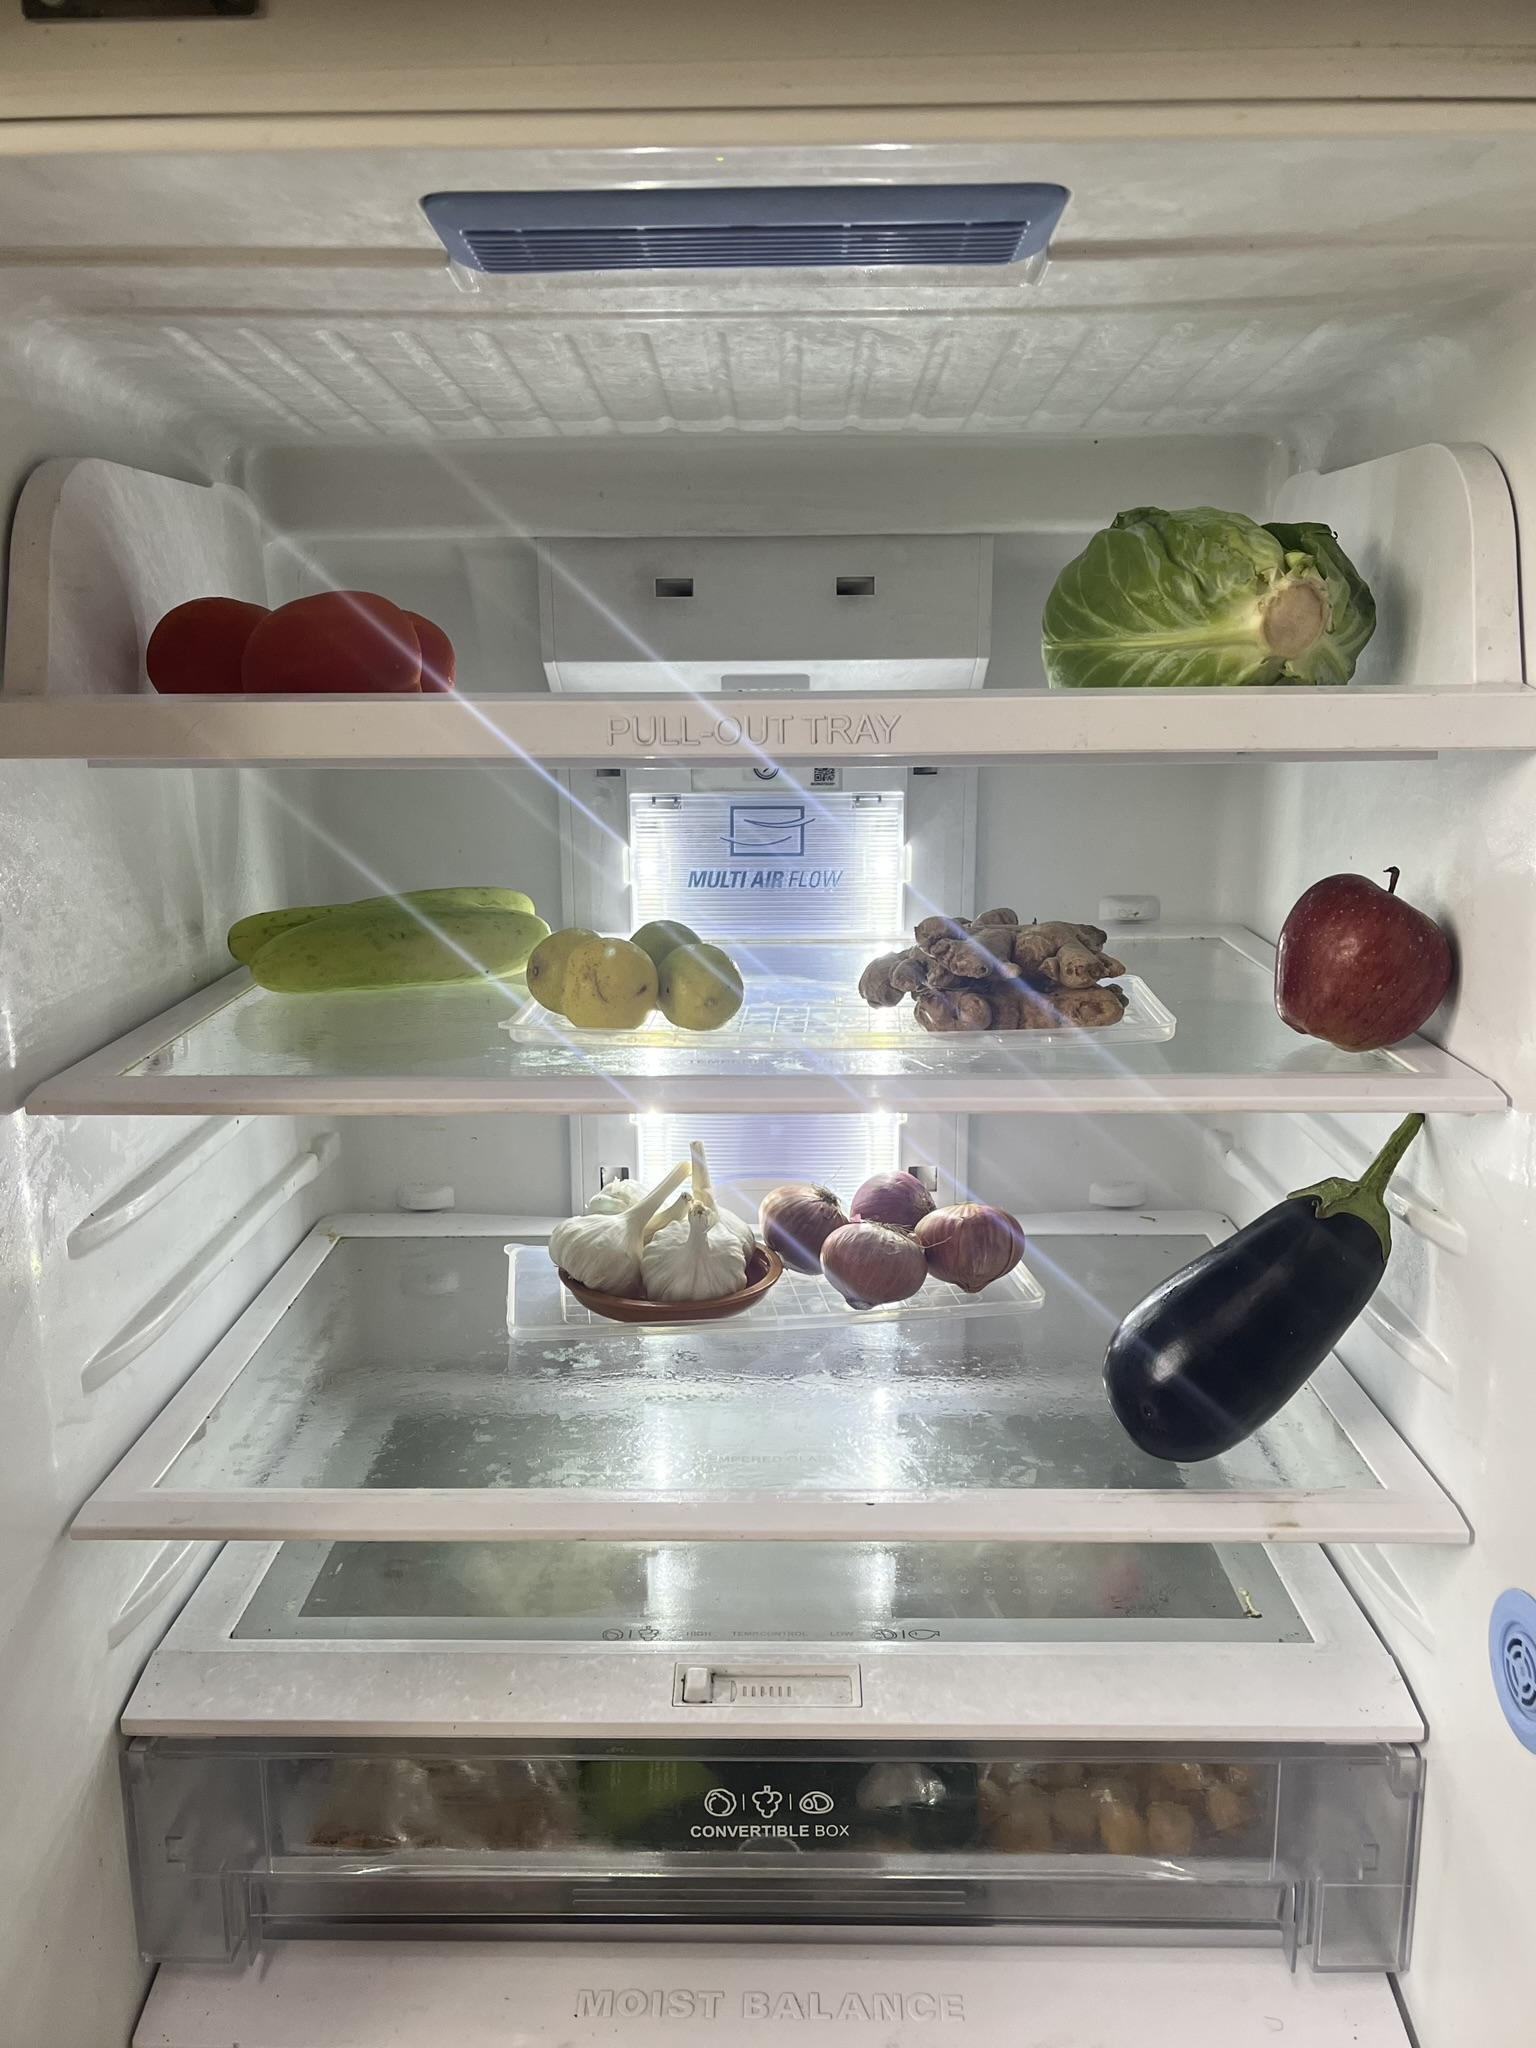apple: (1267, 863, 1454, 1056)
bringal: (1107, 1113, 1417, 1463)
cabbage: (1044, 497, 1379, 681)
cucumber: (213, 880, 550, 1000)
garlic: (557, 1140, 784, 1316)
ginger: (873, 900, 1141, 1034)
lemon: (523, 913, 747, 1027)
onion: (760, 1166, 1023, 1316)
tomato: (144, 593, 463, 693)
